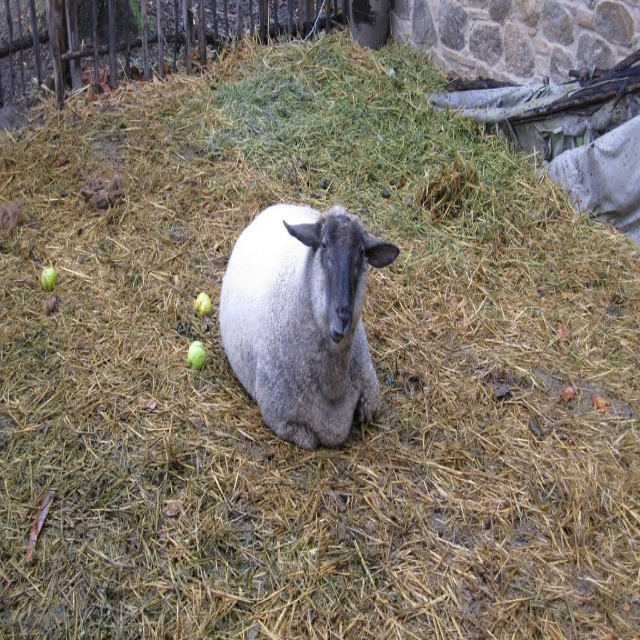Sheep: (218, 200, 397, 451)
